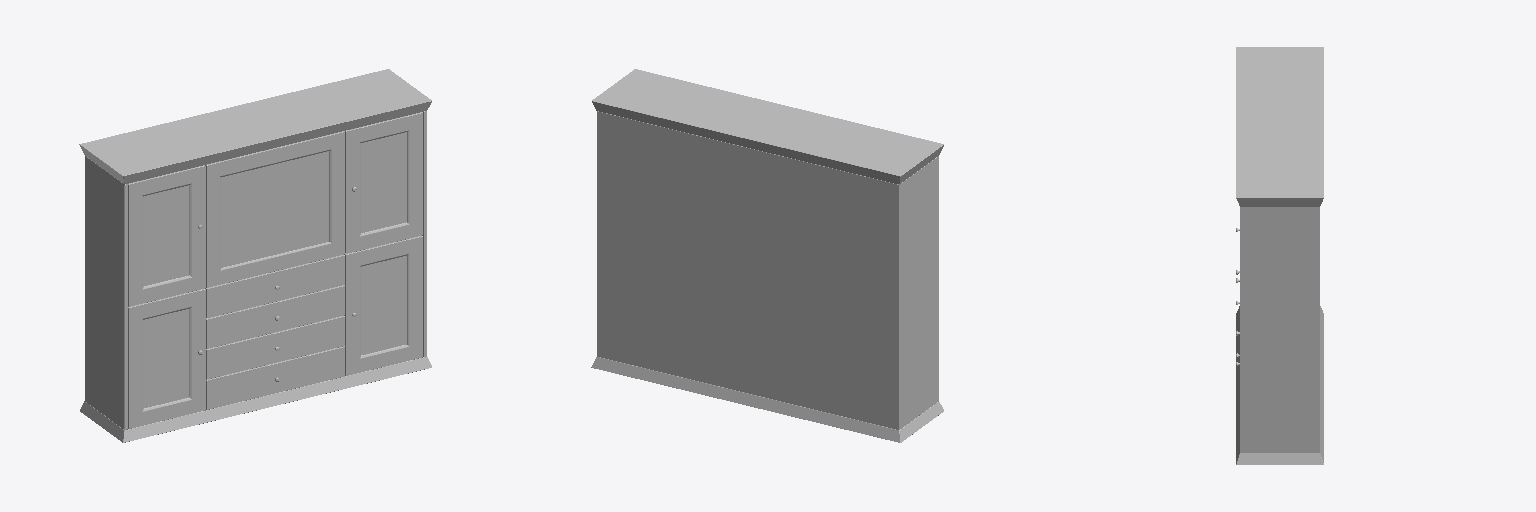
Rendered from armadio.obj.
The picture shows the model from 3 angles: view 1: azimuth 30°, elevation 25°; view 2: azimuth 150°, elevation 25°; view 3: azimuth 270°, elevation 25°; orthographic projection.
Visible parts, largest first — view 1: obj_03, obj_01, obj_04, obj_02, obj_07; view 2: obj_06, obj_01, obj_02; view 3: obj_02, obj_01.
Boxes of the visible parts, <box> form: obj_03: <box>128,112,422,428</box>; obj_01: <box>79,69,431,442</box>; obj_04: <box>205,255,344,409</box>; obj_02: <box>85,111,426,429</box>; obj_07: <box>221,151,328,267</box>; obj_06: <box>600,112,895,428</box>; obj_01: <box>591,69,943,442</box>; obj_02: <box>597,111,938,429</box>; obj_02: <box>1240,207,1319,452</box>; obj_01: <box>1236,47,1323,464</box>.
Bounding box in the file's own units: 72.02 × 59.35 × 17.74.